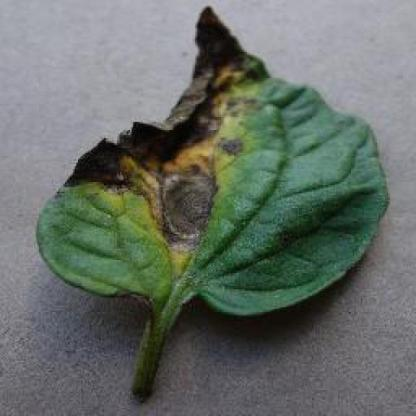Tomato_Blight: (39, 7, 387, 315)
